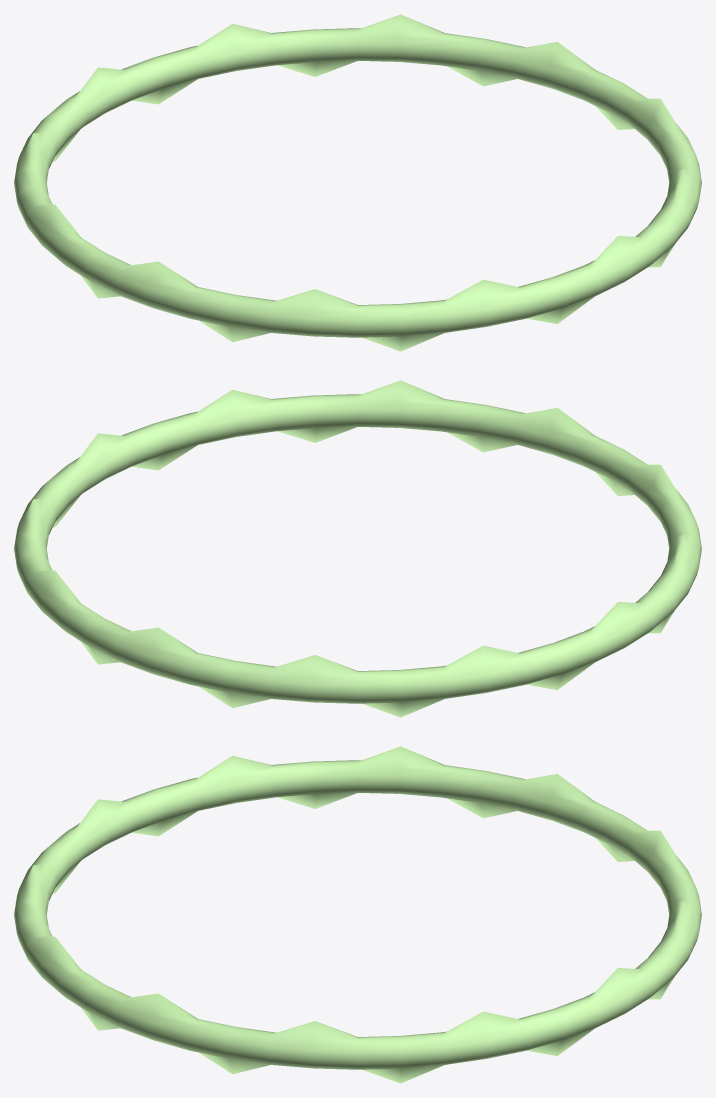
The model's file is spikering.gltf.
3 renders of one model, top to bottom at view 1: azimuth 30°, elevation 25°; view 2: azimuth 150°, elevation 25°; view 3: azimuth 270°, elevation 25°, orthographic.
Visible parts, largest first — view 1: Torus; view 2: Torus; view 3: Torus.
Boxes of the visible parts, left/top/right/bottom form: Torus: left=14, top=14, right=701, bottom=351; Torus: left=14, top=380, right=701, bottom=717; Torus: left=14, top=746, right=701, bottom=1083.
Size of the model in its own units: 4.2 by 0.4228 by 4.2.
